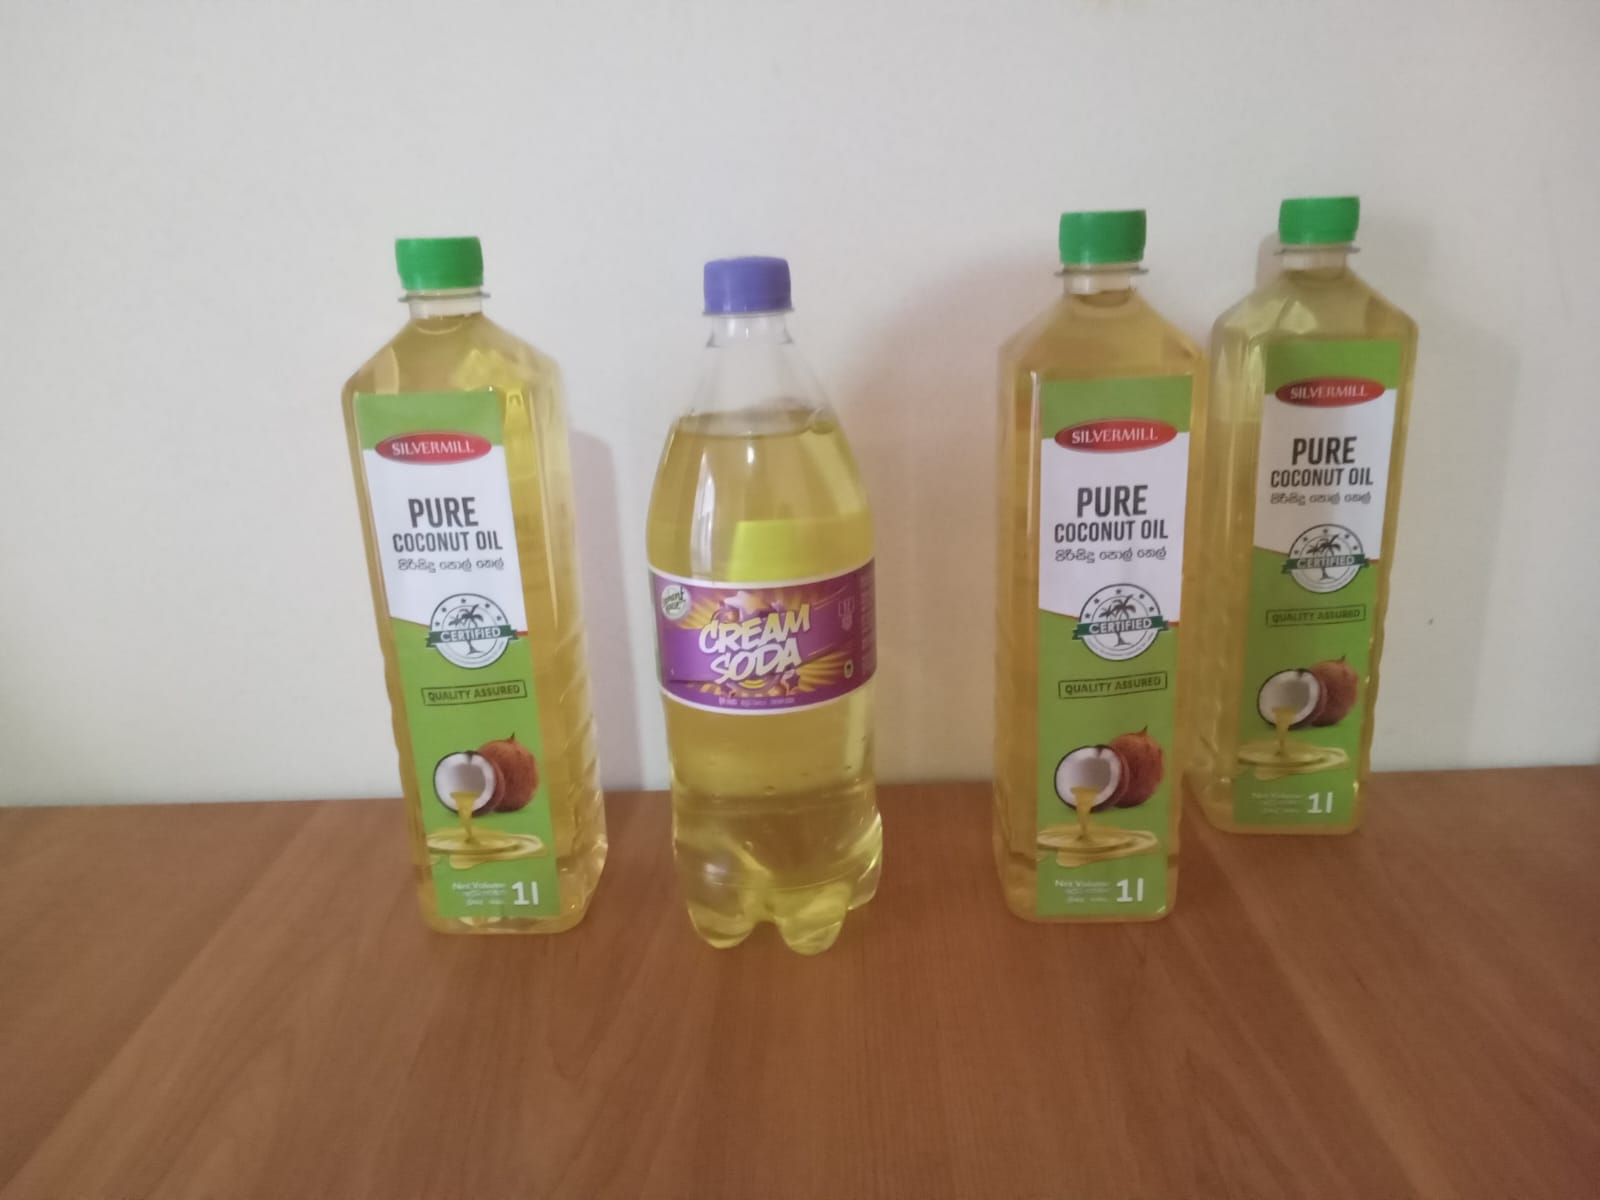M: (641, 252, 893, 957)
